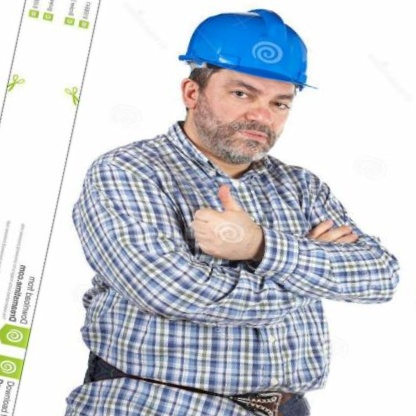blue: (174, 0, 350, 101)
